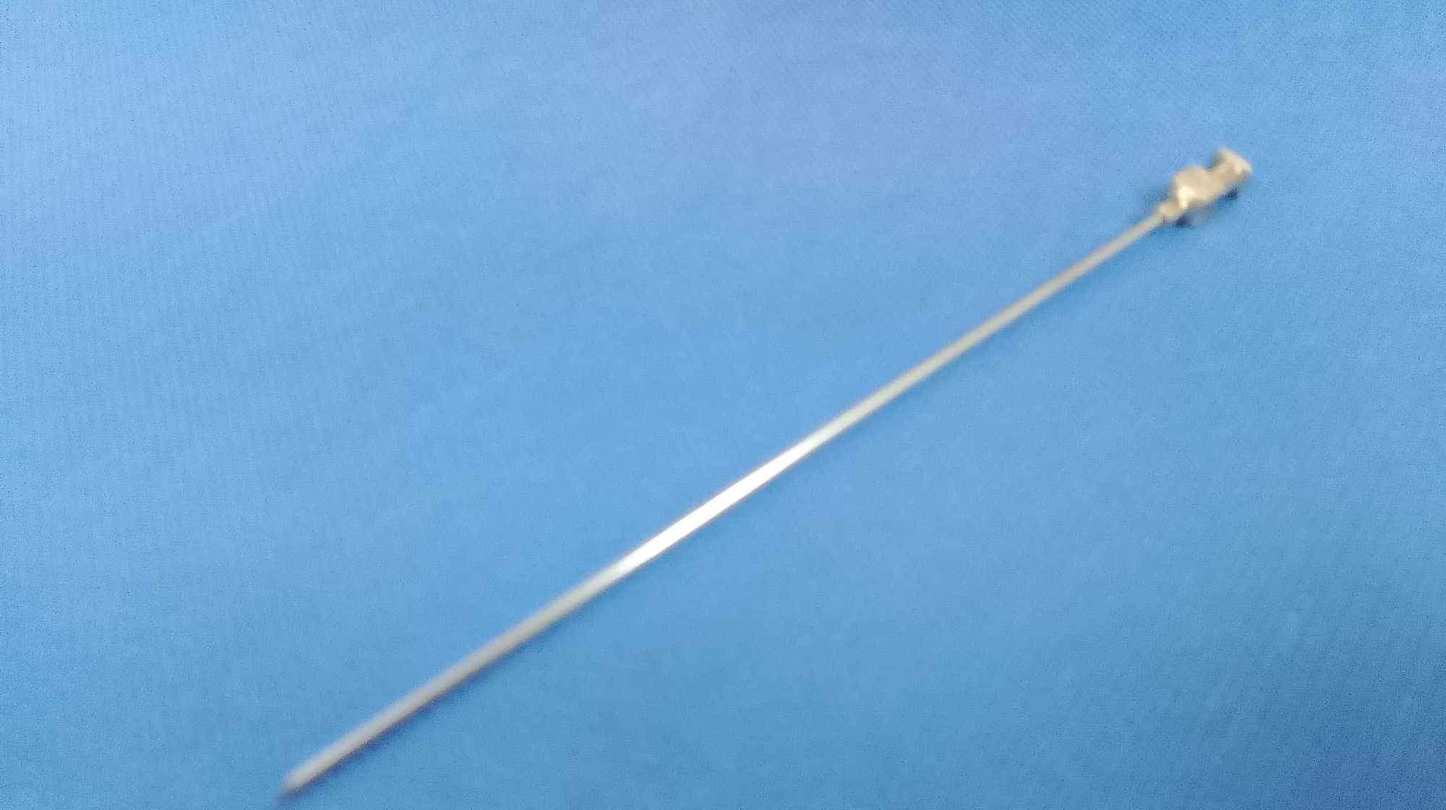Infectious: (1158, 145, 1252, 228)
Sharps: (276, 143, 1253, 797)
